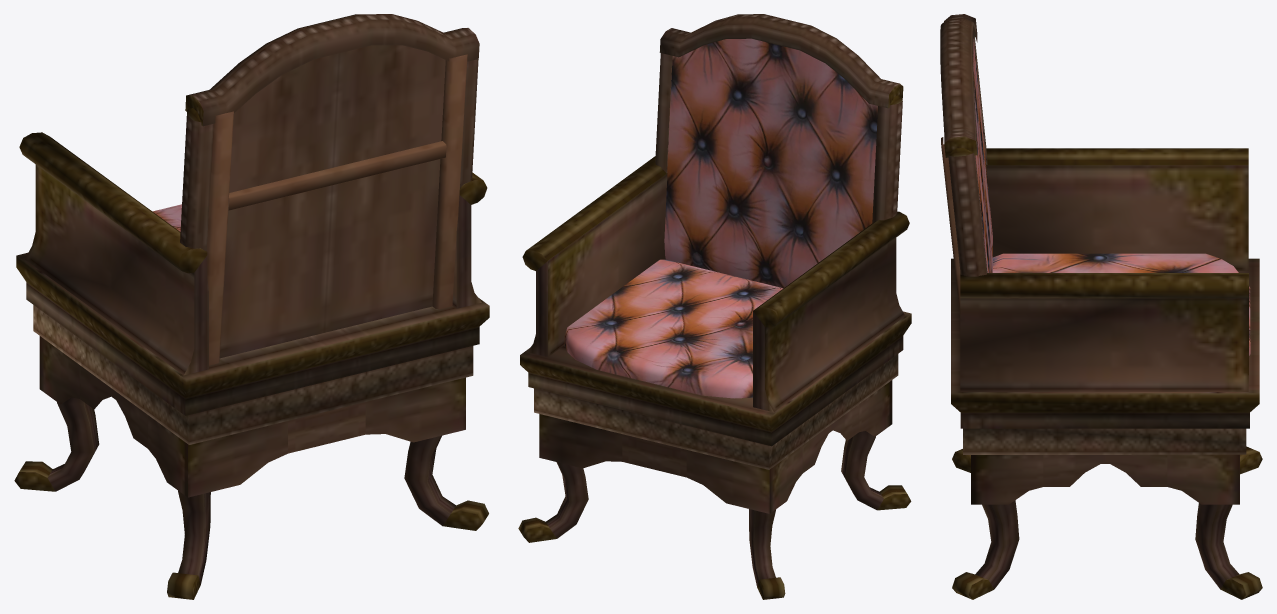
Rendered from o_mdl_env_propFurnitureSofaB-transformed.glb.
3 views of the same model, side by side, from view 1: azimuth 30°, elevation 25°; view 2: azimuth 150°, elevation 25°; view 3: azimuth 270°, elevation 25° (orthographic). The views are drawn at different scales.
Parts seen in each view (by area): view 1: default; view 2: default; view 3: default.
Part boxes in pixels (left/top/right/bottom): default: left=14, top=14, right=489, bottom=599; default: left=518, top=14, right=911, bottom=599; default: left=940, top=14, right=1262, bottom=599.
Size of the model in its own units: 0.7389 by 1.19 by 0.7042.
2 materials, 2 textured.
